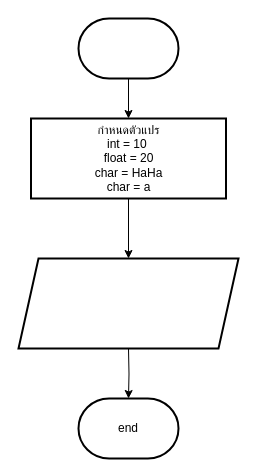
This 256x476 diagram has some shape labels left out. The shapes that lost their labels are listed below. From the top down, each one's box as (x1, y1, x2, y2) in pixels, then its label:
(77, 17, 179, 79): start
(17, 257, 239, 349): แสดงผลคำว่า 10 20.0 Haha a
